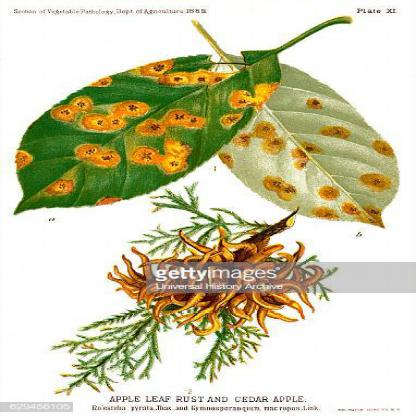Apple rust leaf: (10, 35, 293, 237), (194, 38, 407, 241)
